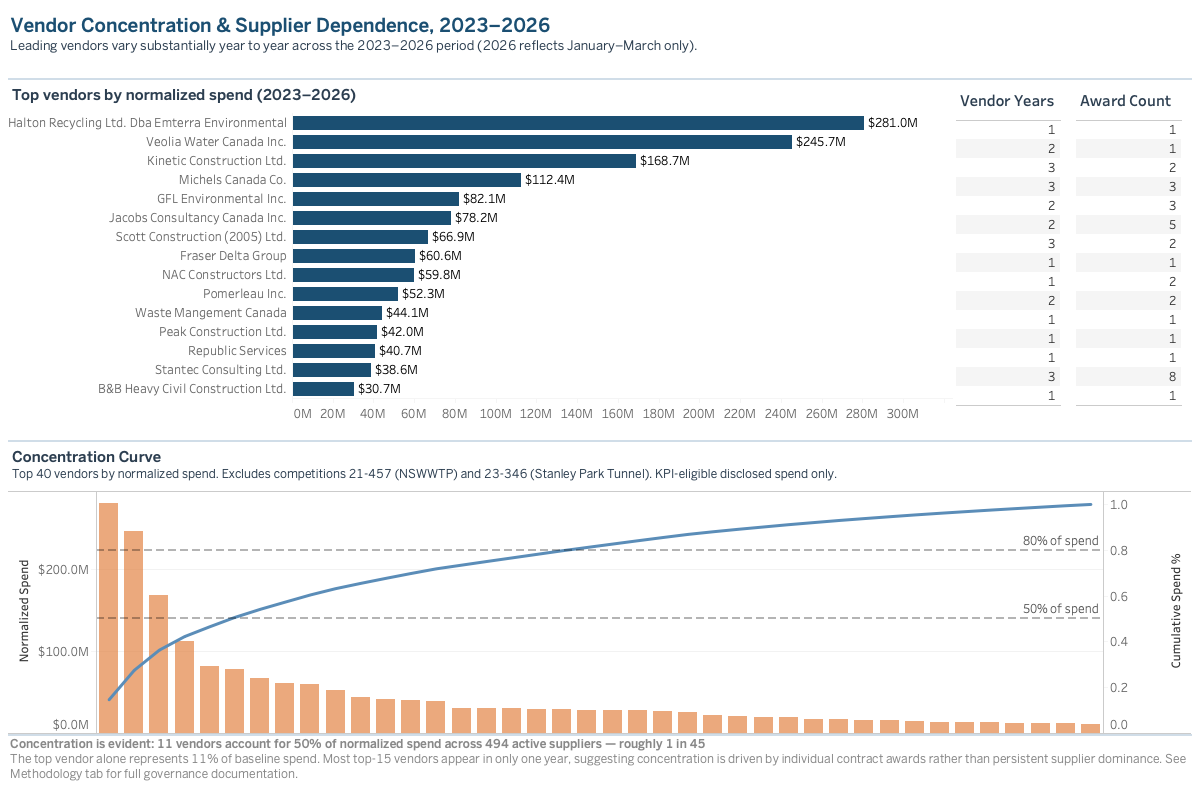

Layout of this report page (visuals, bound fields, positions):
{"tool":"tableau","page":{"name":"Vendor Concentration & Supplier Dependence","canvas":[1200,800],"ordinal":3},"visuals":[{"type":"text","box":[8,8,1184,70]},{"type":"blank","box":[8,78,1184,2]},{"type":"worksheet","title":"Top vendors by normalized spend (2023–2026)","mark":"Automatic","rows":["vendor_name_display"],"cols":["Calculation_0193861900640256"],"box":[8,80,944,360]},{"type":"worksheet","title":"Vendor Years","mark":"Text","rows":["vendor_name_display"],"box":[952,80,120,360]},{"type":"worksheet","title":"Award Count","mark":"Text","rows":["vendor_name_display"],"box":[1072,80,120,360]},{"type":"blank","box":[8,440,1184,2]},{"type":"worksheet","title":"Concentration Curve","mark":"Automatic","rows":["Calculation_0193861900640256","Calculation_0044881144426496"],"cols":["vendor_name_display"],"box":[8,442,1184,292]},{"type":"blank","box":[8,734,1184,2]},{"type":"text","box":[8,736,1184,49]}]}

Visuals, with their boxes in screenshot pixels (x1, y1, x2, y2), scaled from the page's 1200x800 canvas onto the 1200x800 screenshot:
text: (8,8,1192,78)
blank: (8,78,1192,80)
"Top vendors by normalized spend (2023–2026)" worksheet: (8,80,952,440)
"Vendor Years" worksheet (Text marks): (952,80,1072,440)
"Award Count" worksheet (Text marks): (1072,80,1192,440)
blank: (8,440,1192,442)
"Concentration Curve" worksheet: (8,442,1192,734)
blank: (8,734,1192,736)
text: (8,736,1192,785)
